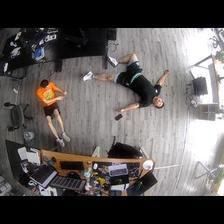fall: (80, 52, 171, 112), (35, 79, 74, 146)
